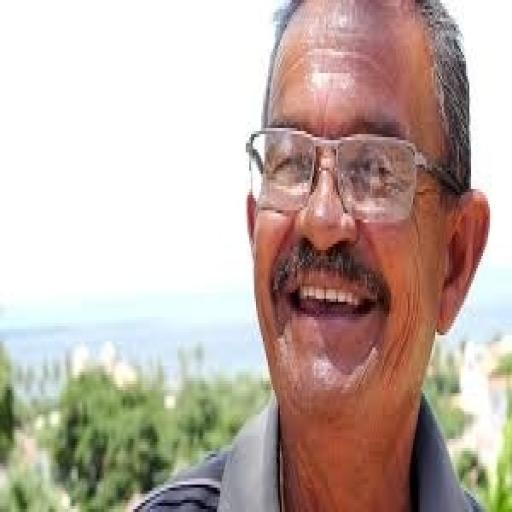laughing: (126, 3, 497, 506)
